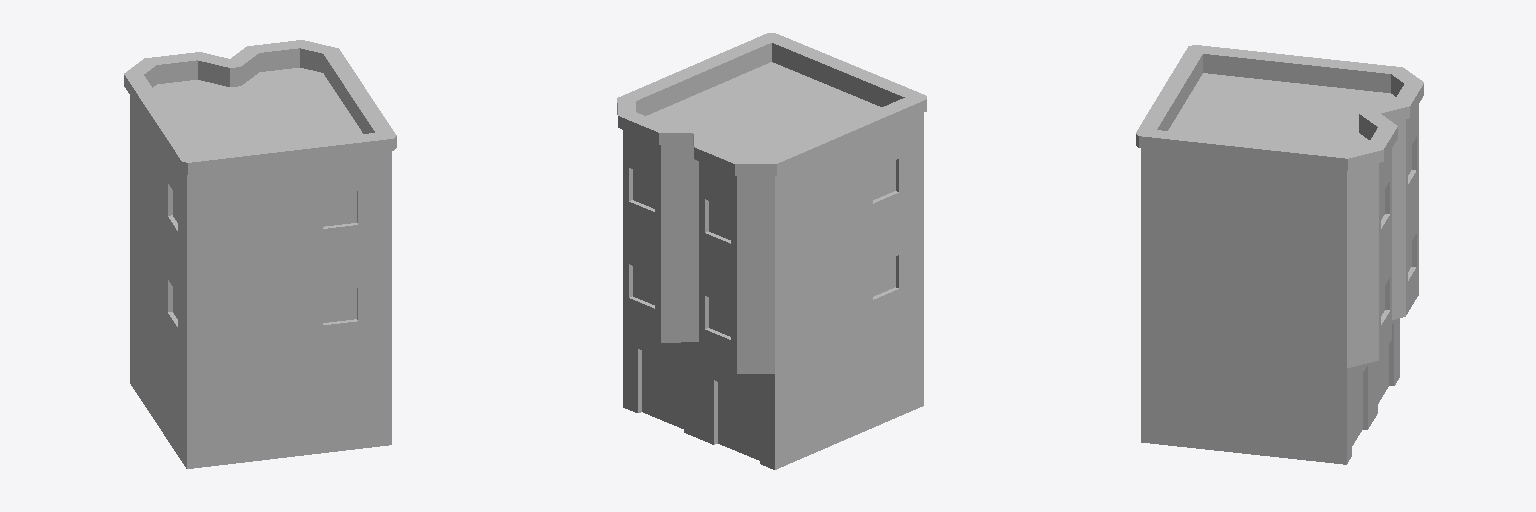
Rendered from variant_48.obj.
3 renders of one model, left to right at view 1: azimuth 30°, elevation 25°; view 2: azimuth 150°, elevation 25°; view 3: azimuth 270°, elevation 25°, orthographic.
Parts seen in each view (by area): view 1: Building; view 2: Building; view 3: Building.
Part boxes in pixels (left/top/right/bottom): Building: left=124, top=40, right=396, bottom=468; Building: left=617, top=33, right=926, bottom=469; Building: left=1136, top=45, right=1423, bottom=464.
Bounding box in the file's own units: 1.01 × 1.28 × 1.09.